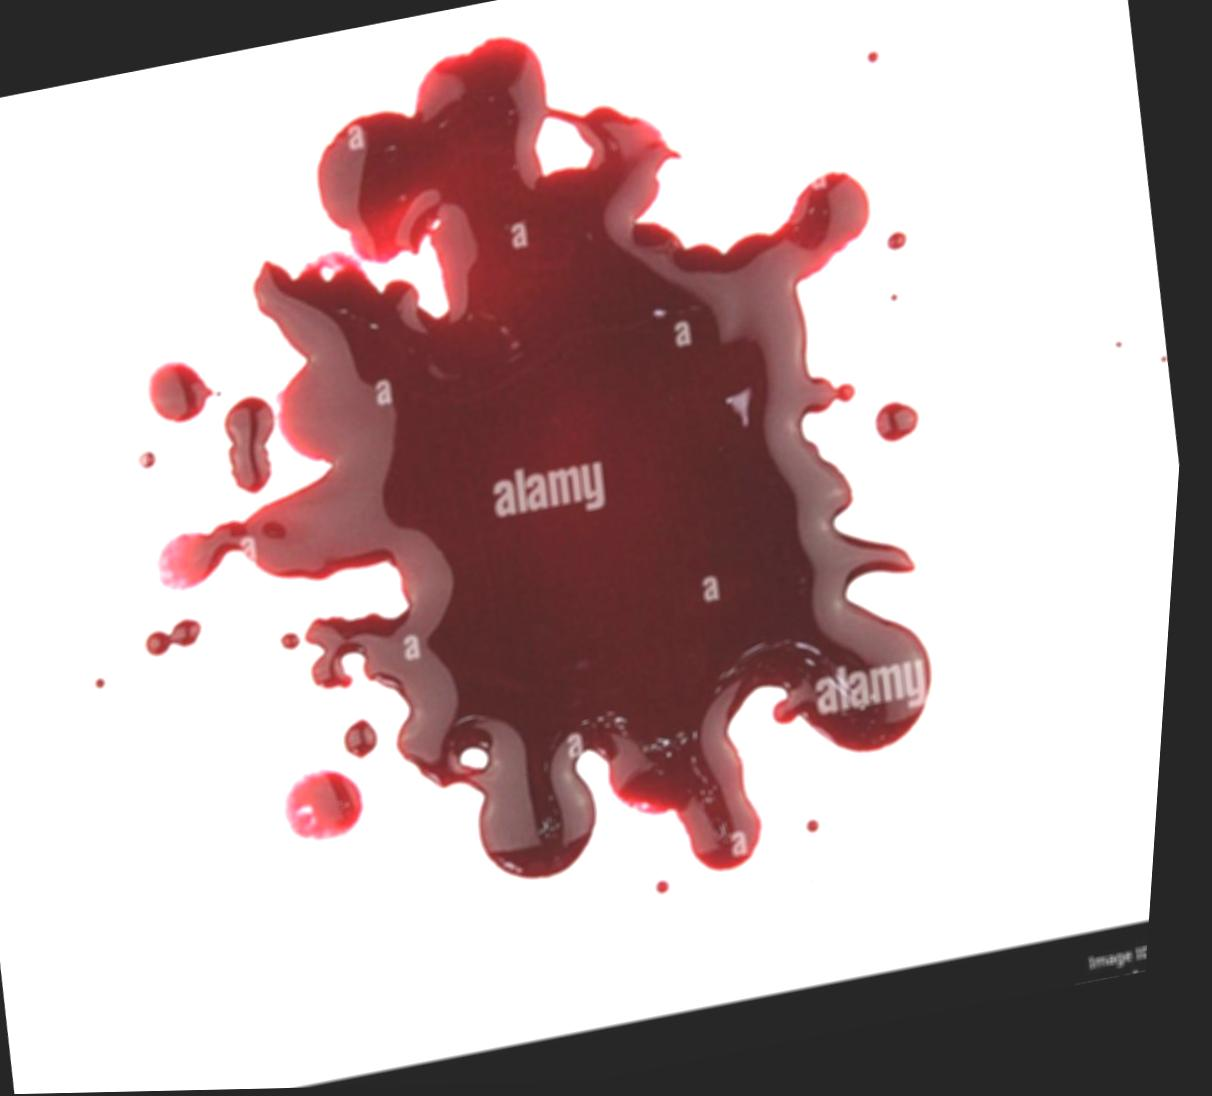Fire: (165, 38, 941, 881), (295, 769, 374, 840), (229, 396, 280, 494), (152, 361, 220, 422), (154, 620, 210, 656), (880, 405, 924, 446), (354, 720, 387, 759)
